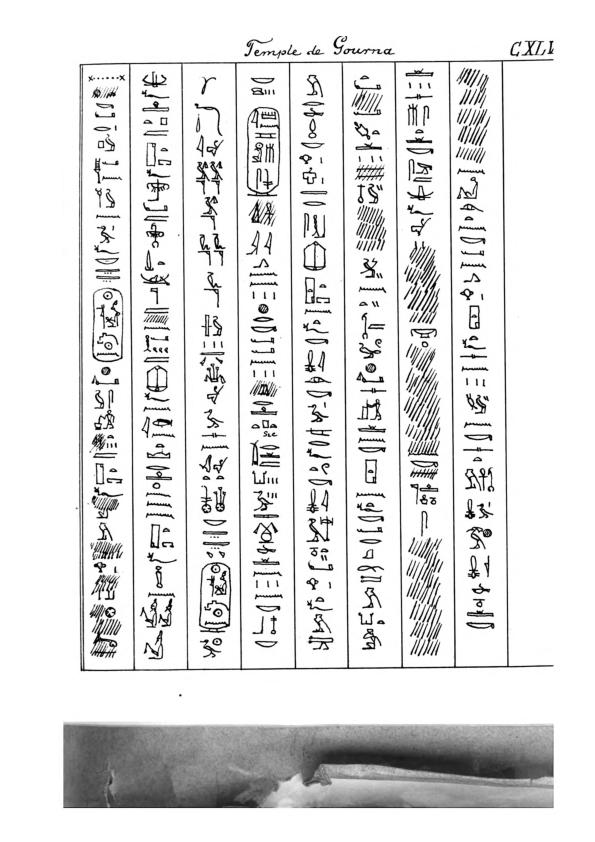circle: (242, 104, 282, 200), (89, 286, 126, 364), (197, 560, 234, 634)
